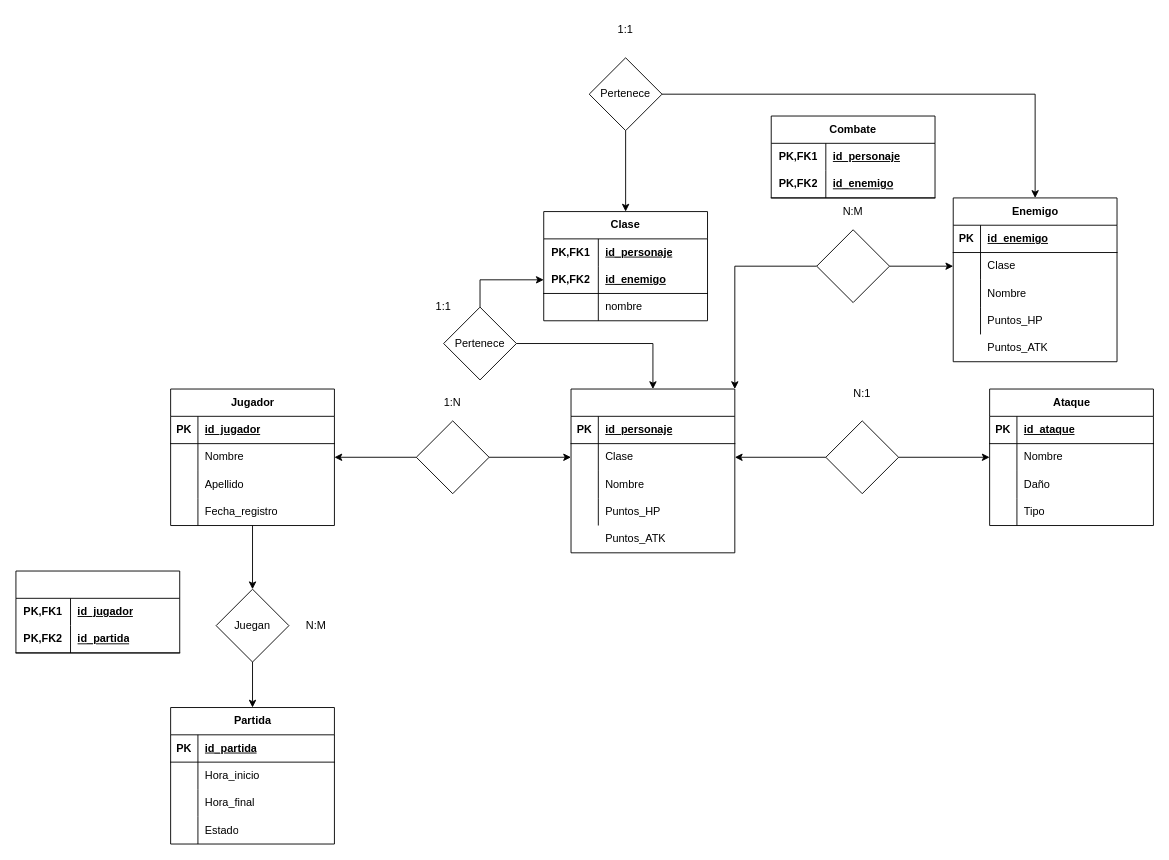
Image size: 1169x860. Some labels were removed from this diagram. Each missing label, with the box of its shape:
Combaten: (816, 229, 890, 303)
Jugador_Partida: (15, 570, 180, 653)
Personajes: (570, 388, 735, 553)
Selecciona: (415, 420, 489, 494)
Tienen: (825, 420, 899, 494)
